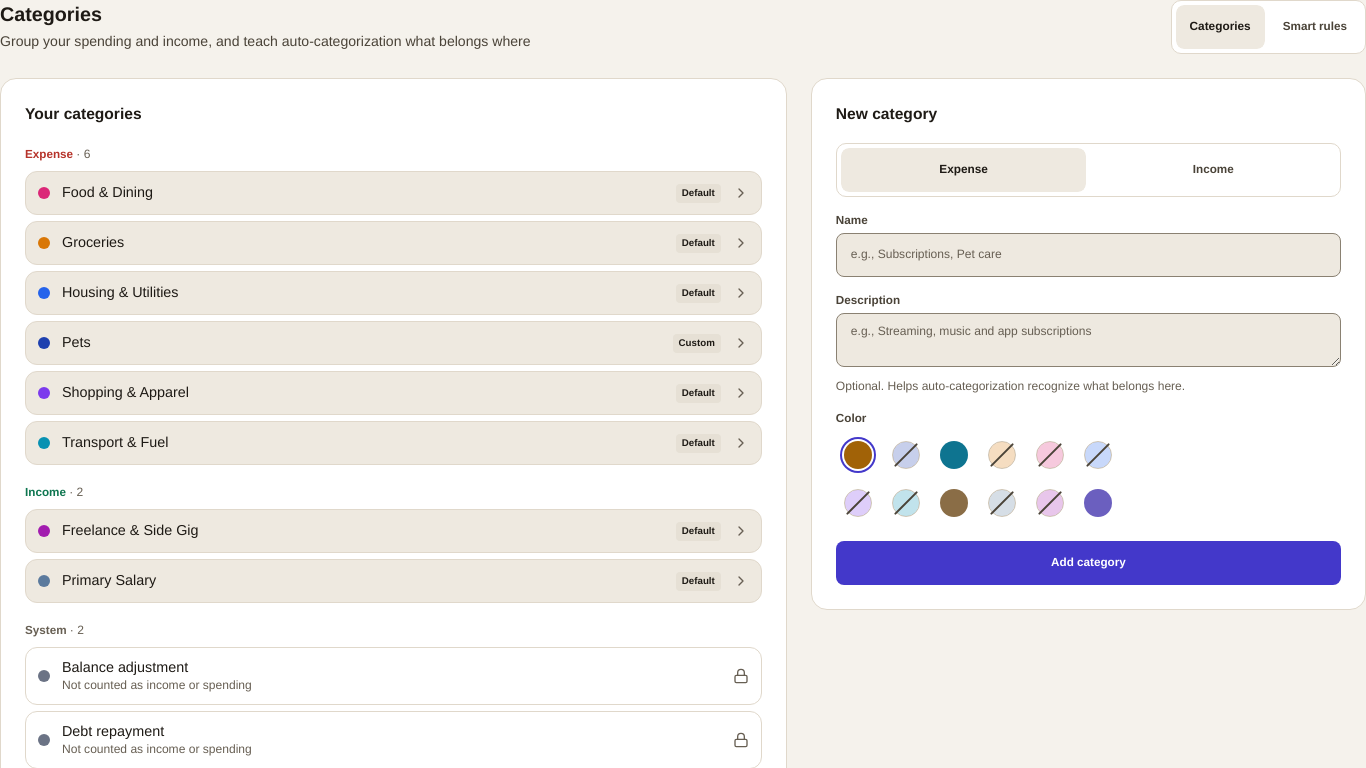
Test: delete, from lg › an unused custom category is deleted after the confirm, and focus goes to the list
The width and height of the screenshot is (1366, 768).
Click the button with id "category-edit-pets".
click(697, 343)  # box [25, 321, 762, 365]
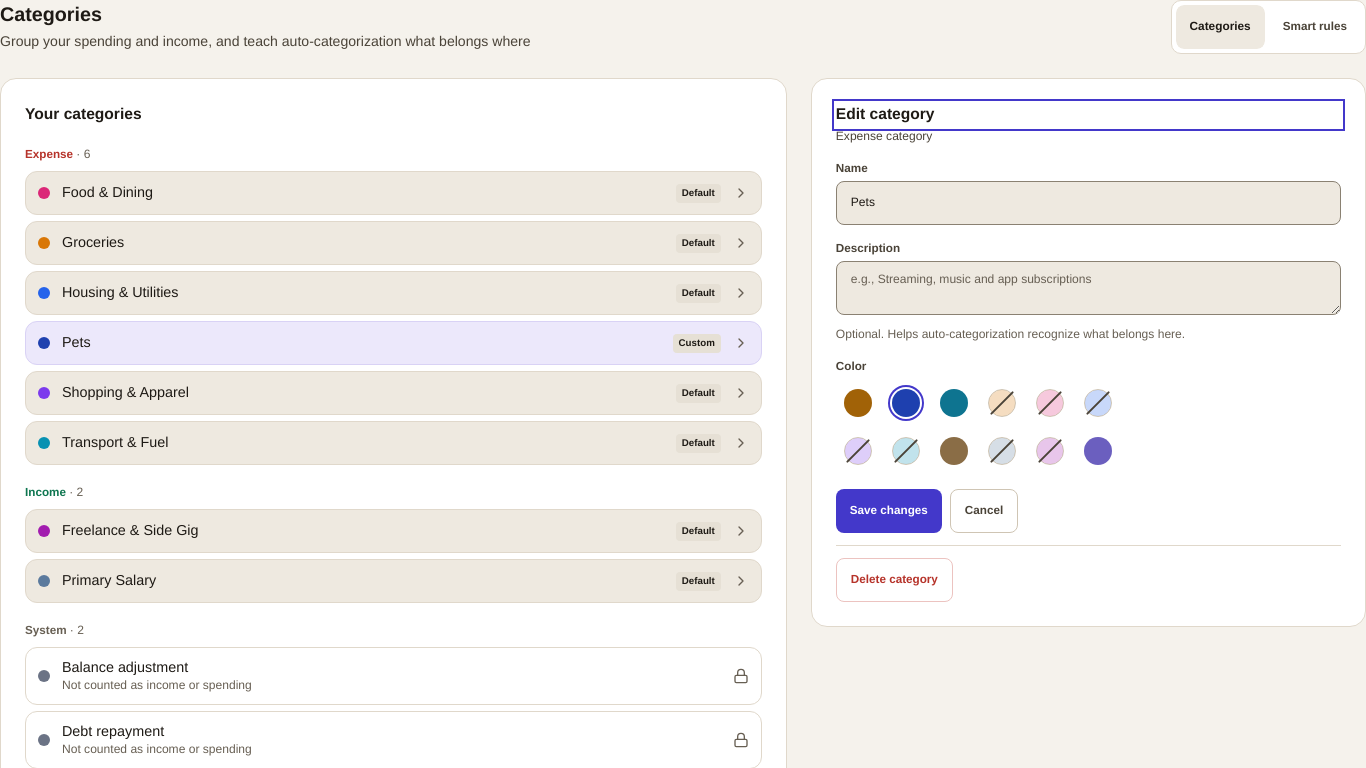
Click the button with id "category-delete-pets".
click(894, 580)  # box [836, 558, 953, 602]
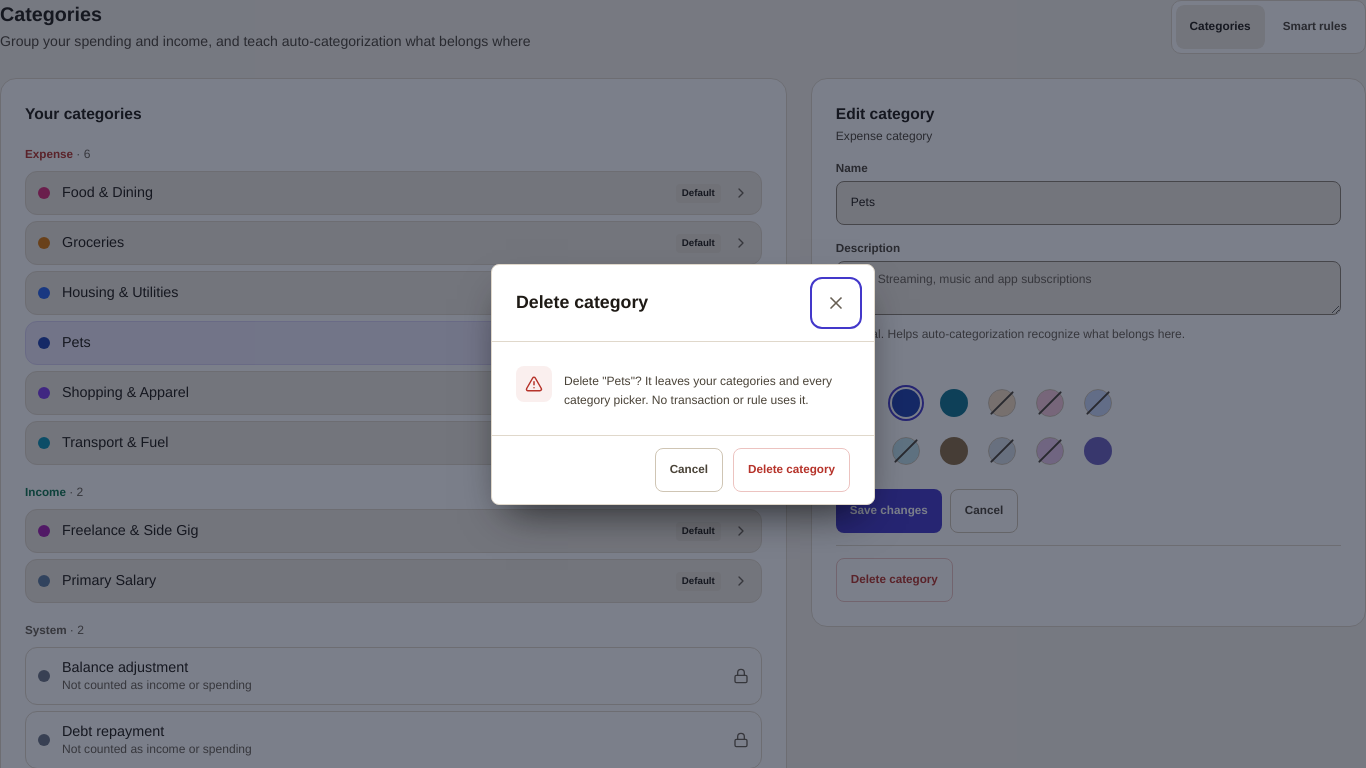
Result: the dialog "Delete category" shows "No transaction or rule uses it." at [564, 372, 832, 410]
Click the button with id "confirm-destructive-btn".
click(792, 470)  # box [733, 448, 850, 492]
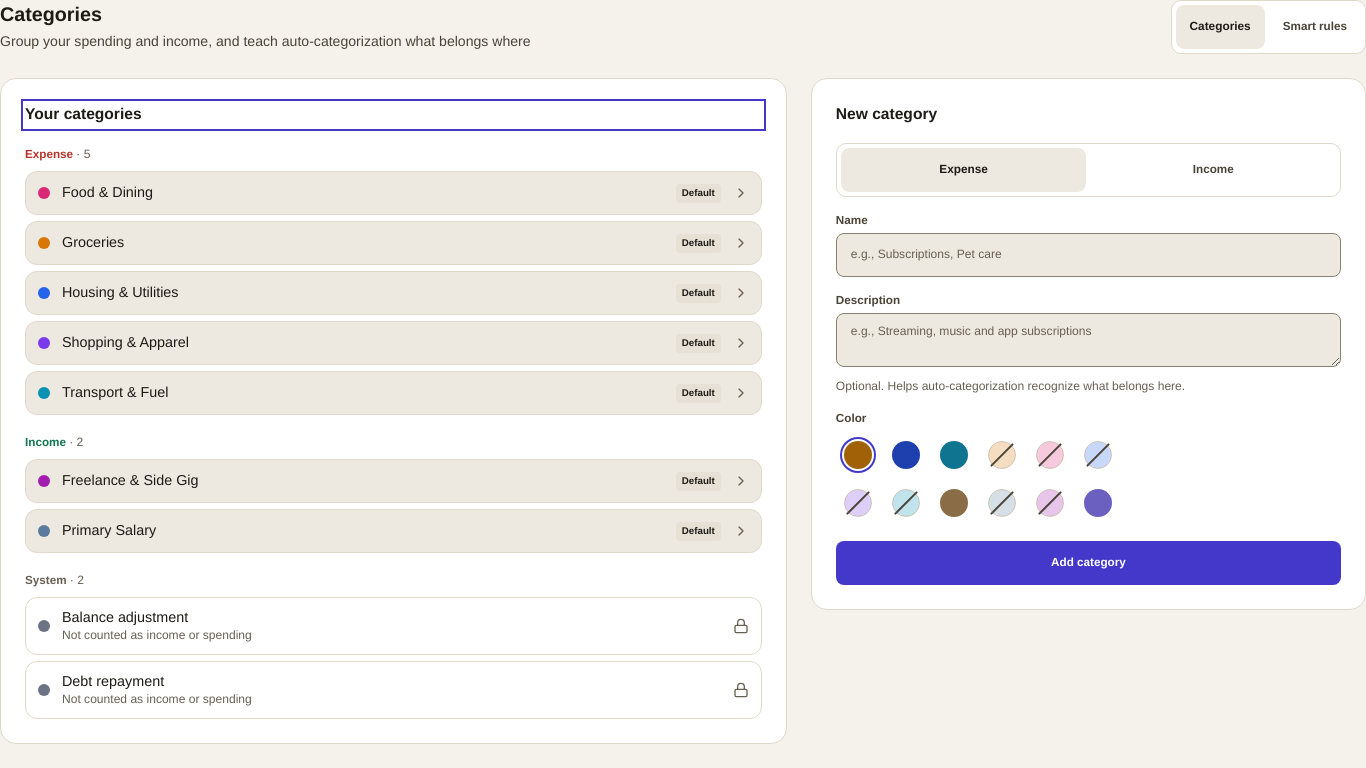
Result: the list item with id "category-row-pets" is gone
Result: the heading with id "category-form-heading" reads "New category" at [836, 101, 937, 128]
